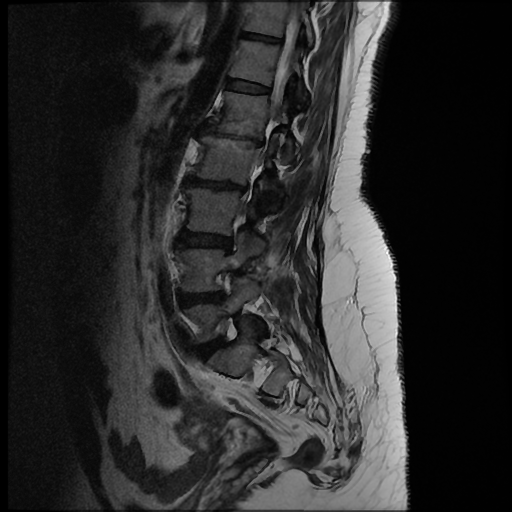LFS1: (201, 264, 240, 308)
